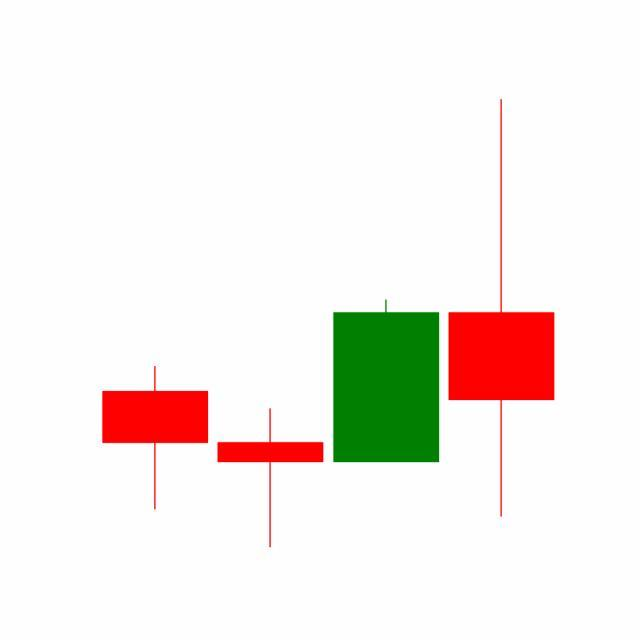Marubozu: (329, 299, 445, 465)
